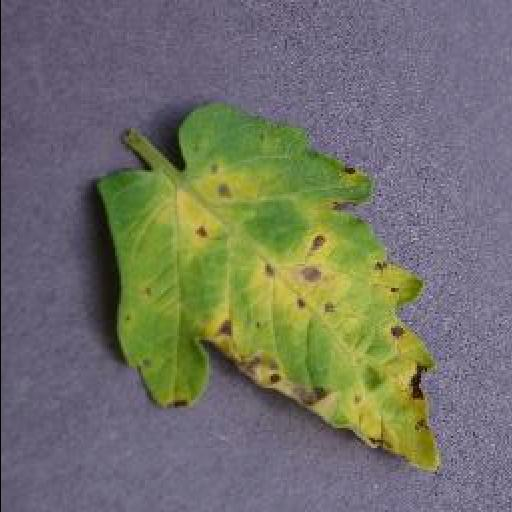disease_tomato: (90, 107, 444, 475)
